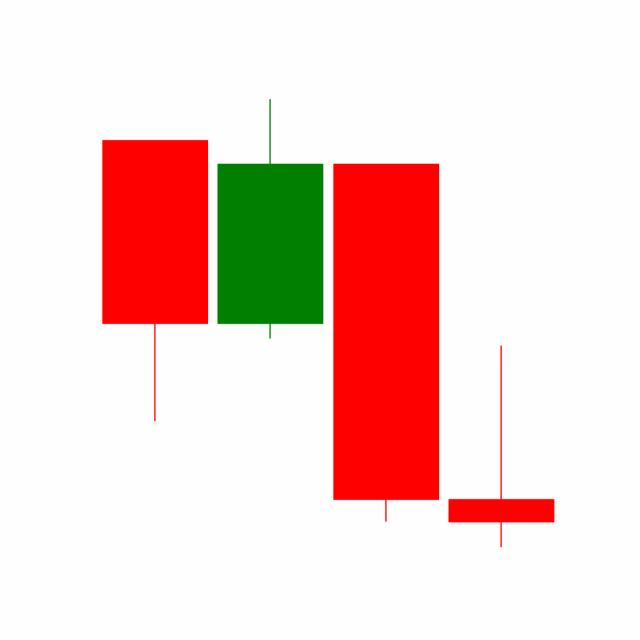Gravestone Doji: (443, 342, 559, 550)
